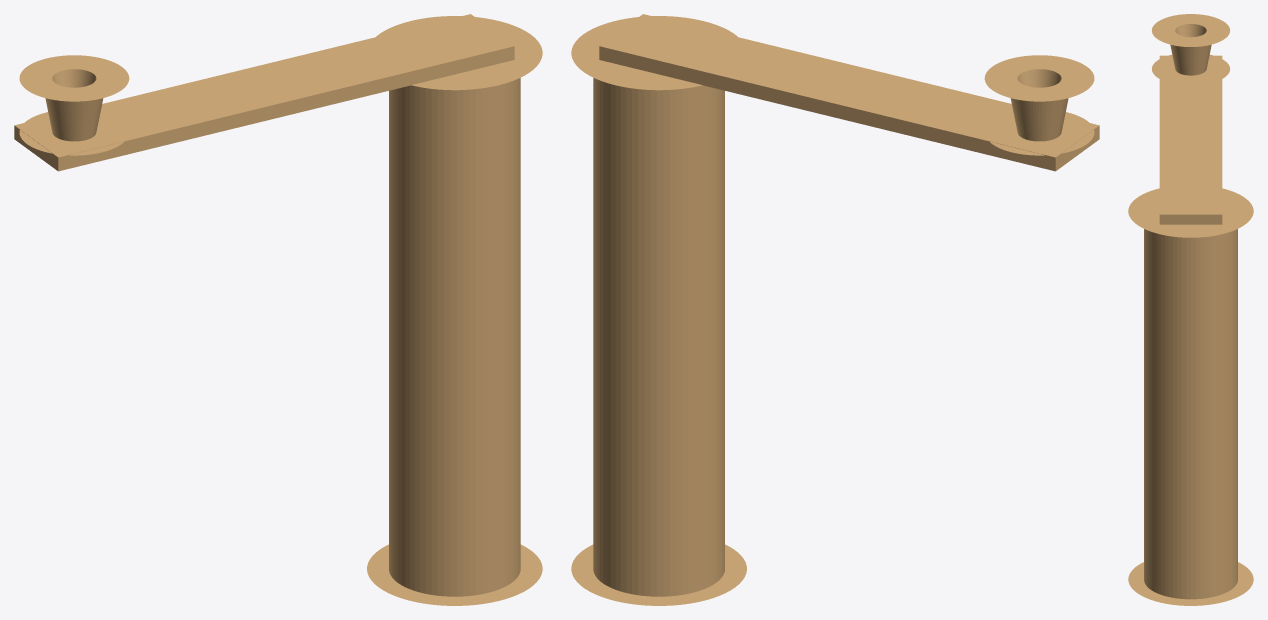
File: board.glb
The picture shows the model from 3 angles, left to right: view 1: azimuth 30°, elevation 25°; view 2: azimuth 150°, elevation 25°; view 3: azimuth 270°, elevation 25°; orthographic projection. The views are drawn at different scales.
Parts seen in each view (by area): view 1: Unified_Via_2, Substrate_Layer_1_Z0, Unified_Via_0; view 2: Unified_Via_2, Substrate_Layer_1_Z0, Unified_Via_0; view 3: Unified_Via_2, Substrate_Layer_1_Z0, Unified_Via_0.
Part boxes in pixels (x1,y1,x2,y2): Unified_Via_2: (367, 16, 542, 605); Substrate_Layer_1_Z0: (14, 14, 514, 171); Unified_Via_0: (19, 55, 129, 155); Unified_Via_2: (571, 16, 746, 605); Substrate_Layer_1_Z0: (599, 14, 1099, 171); Unified_Via_0: (984, 55, 1094, 155); Unified_Via_2: (1128, 188, 1253, 605); Substrate_Layer_1_Z0: (1159, 55, 1222, 224); Unified_Via_0: (1151, 14, 1230, 78).
Size of the model in its own units: 0.00132 by 0.00146 by 0.0004.
